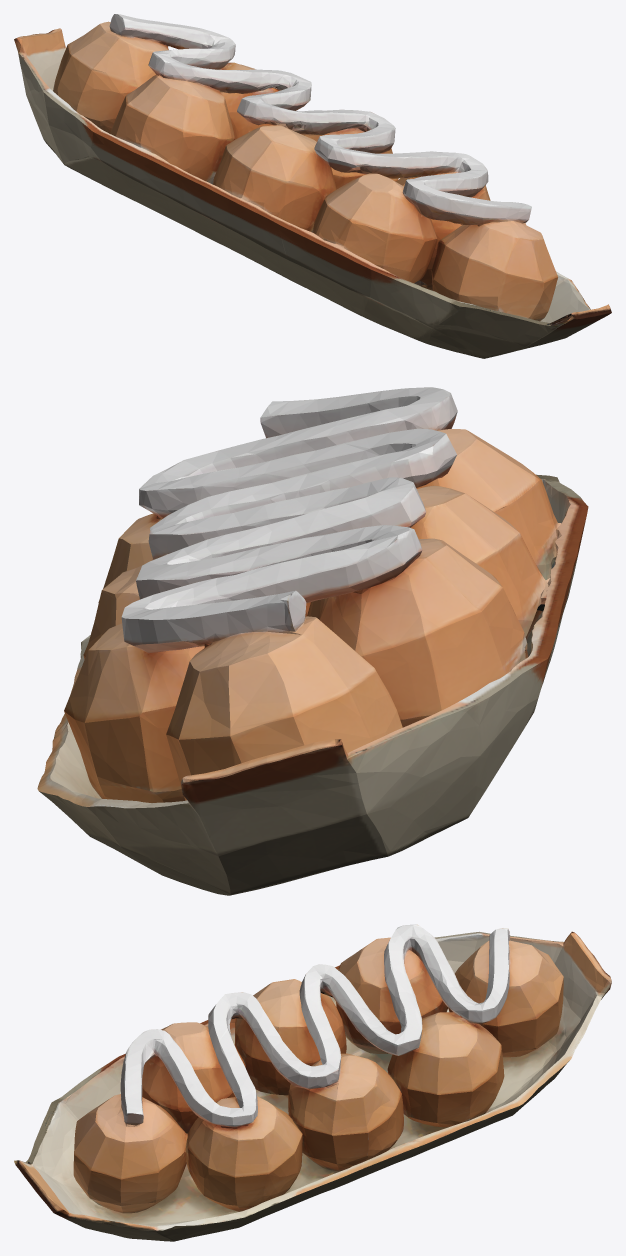
Rendered from after.glb.
3 renders of one model, top to bottom at view 1: azimuth 30°, elevation 25°; view 2: azimuth 150°, elevation 25°; view 3: azimuth 270°, elevation 25°, orthographic. The views are drawn at different scales.
Visible parts, largest first — view 1: world; view 2: world; view 3: world.
Boxes of the visible parts, left/top/right/bottom form: world: left=14, top=14, right=611, bottom=358; world: left=37, top=387, right=588, bottom=895; world: left=14, top=924, right=611, bottom=1241.
Size of the model in its own units: 0.6379 by 0.4022 by 1.
1 material, 1 textured.
